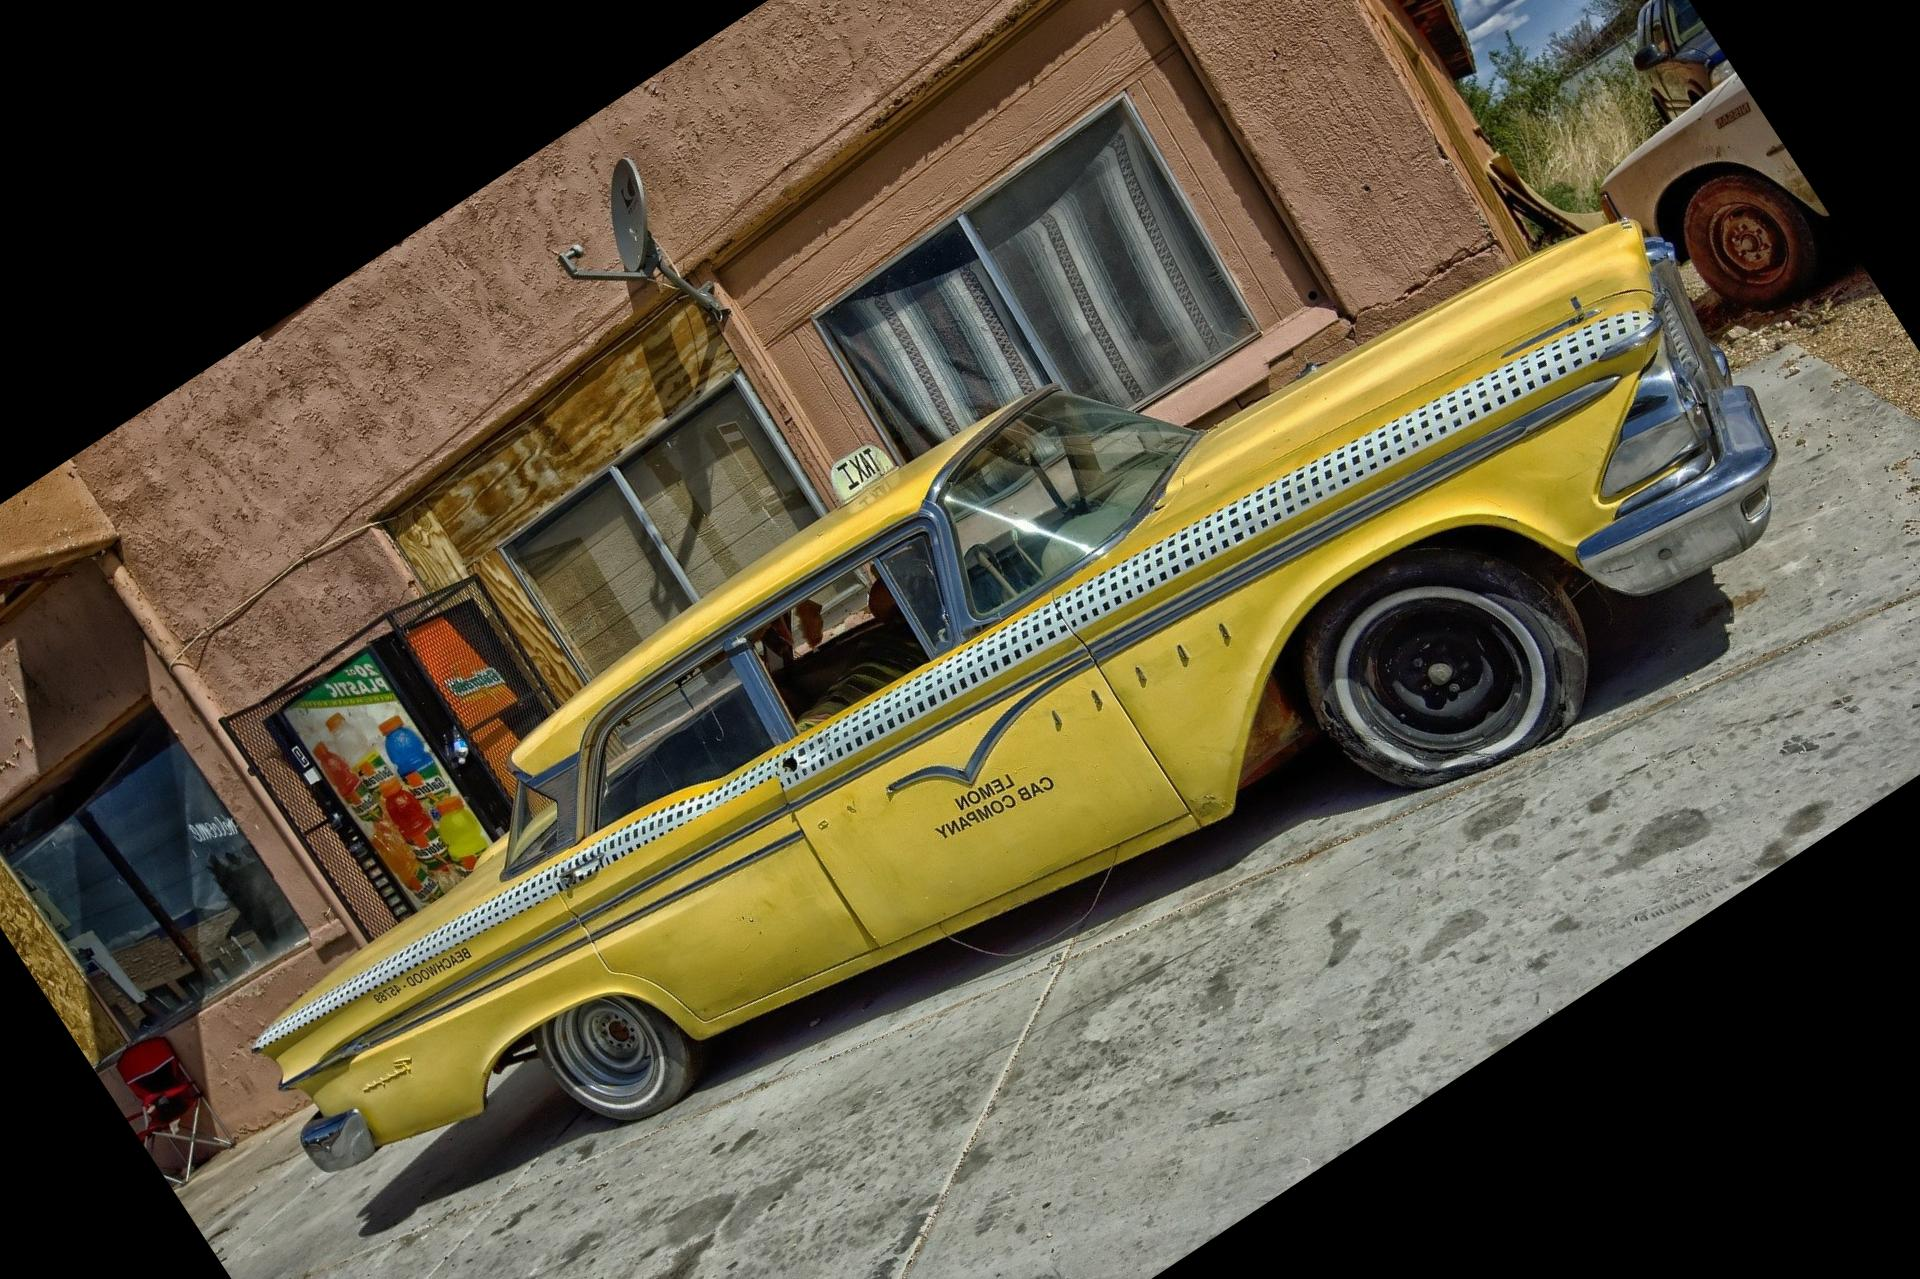taxi: (270, 238, 1804, 1200)
